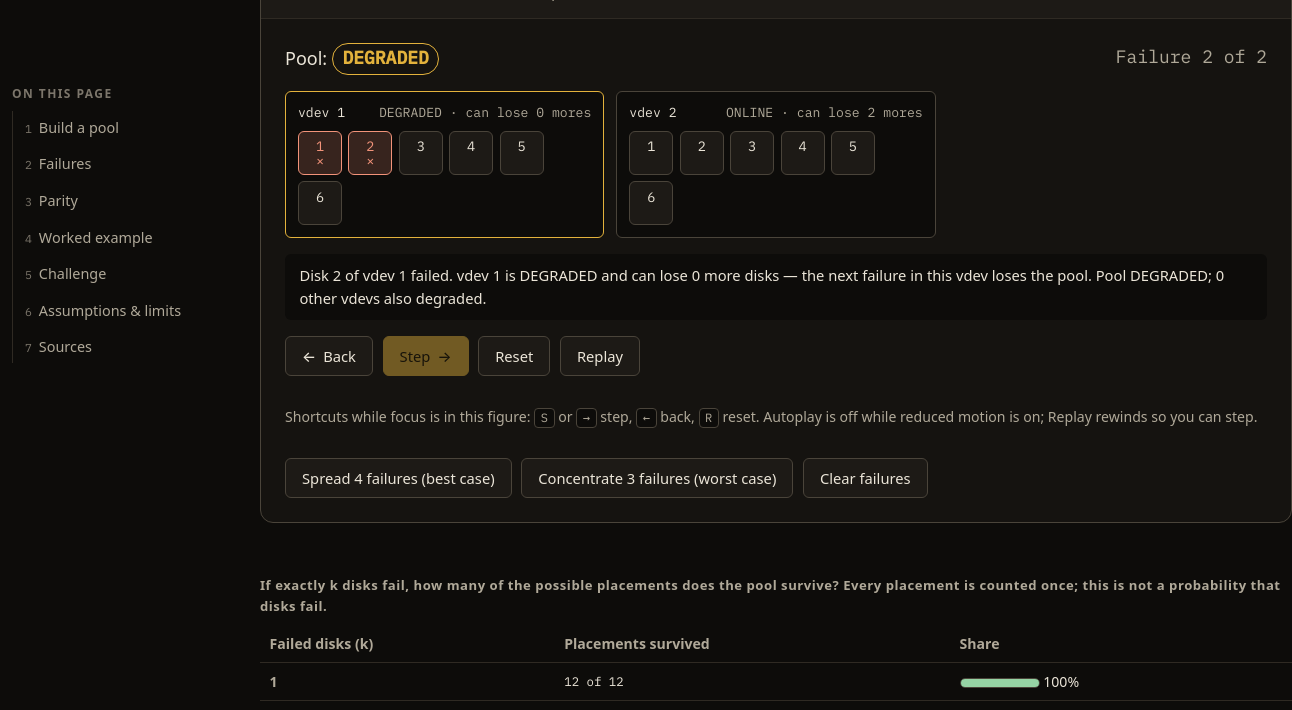
it: ZFS topology explorer › tracer: with reduced motion there is no autoplay; replay only rewinds
The image size is (1292, 710).
(page scrolled)
What coordinates should you click on to do the following:
click the button "Replay"
I would click on:
 (600, 356)
Its box is [560,336,640,376].
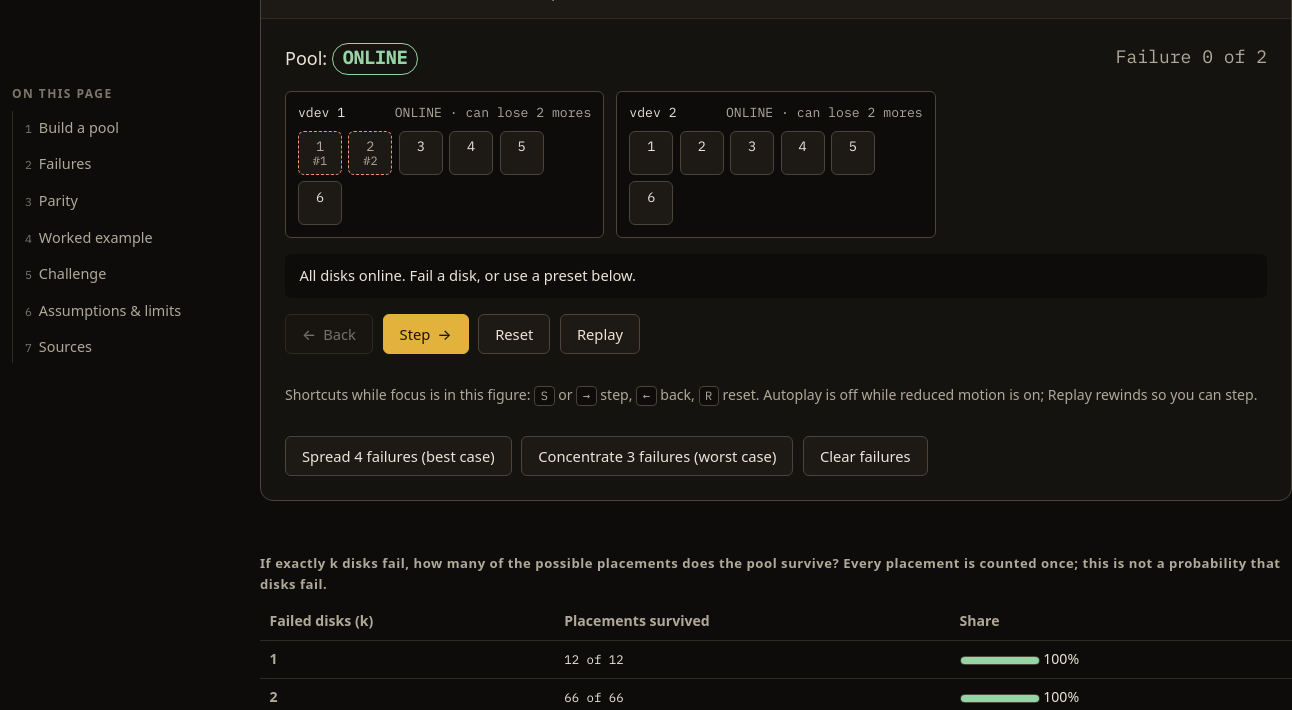
Expected: the text with test id "tracer-step" shows "0 of 2", [1116,43,1267,75]
